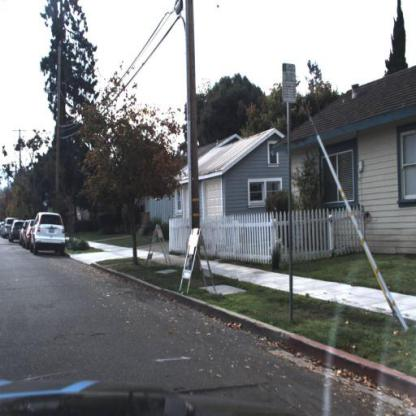car: (28, 208, 69, 259)
